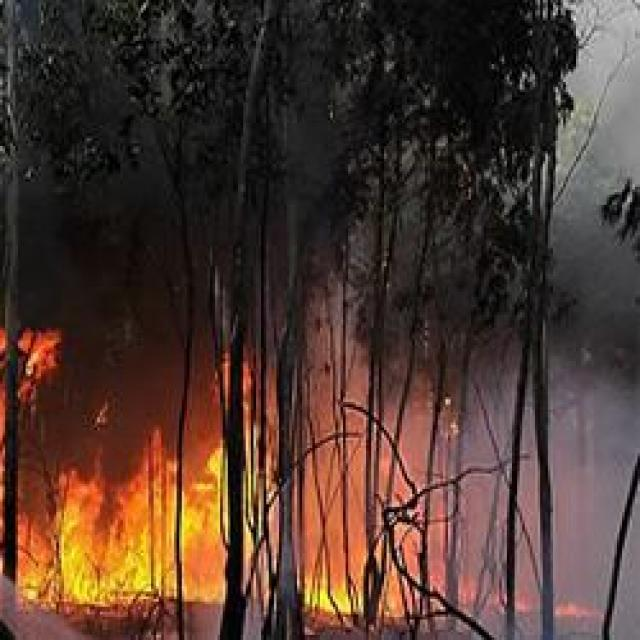fire: (0, 333, 238, 640), (290, 551, 410, 625), (549, 594, 594, 625)
